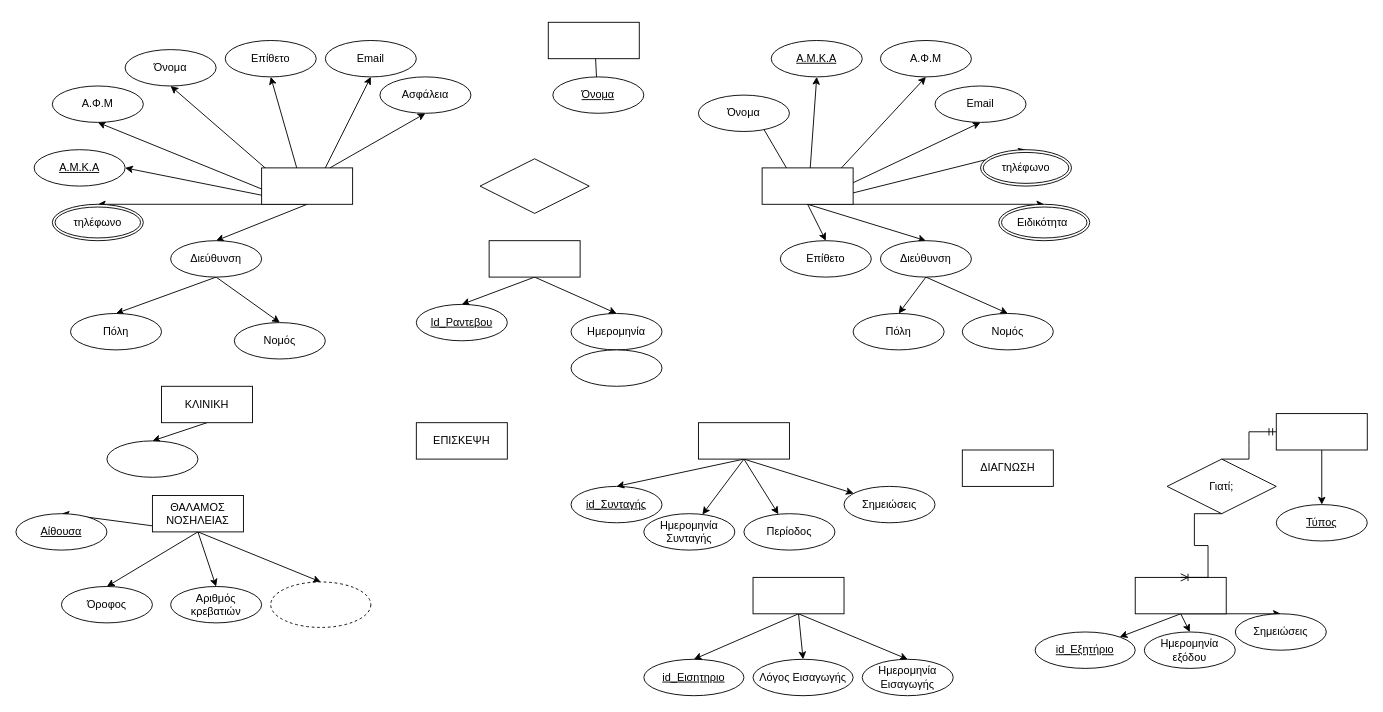
Image size: 1383x712. Some labels were removed from this diagram. The centre of each missing label's shape, as x and y in pixels:
"Attribute" belongs at point (616, 367).
"Έχει" belongs at point (534, 185).
"ΑΣΘΕΝΗΣ" belongs at point (307, 185).
"Διαθέσιμα Κρεβάτια" belongs at point (320, 604).
"ΕΙΣΗΤΗΡΙΟ" belongs at point (798, 595).
"ΕΞΙΤΗΡΙΟ" belongs at point (1180, 595).
"ΘΑΛΑΜΟΣ ΕΞΕΤΑΣΗΣ" belongs at point (593, 40).
"ΙΑΤΡΟΣ" belongs at point (807, 185).
"ΡΑΝΤΕΒΟΥ" belongs at point (534, 258).
"ΤΥΠΟΣ ΕΞΟΔΟΥ" belongs at point (1321, 431).
"ΦΑΡΜΑΚΕΥΤΙΚΗ ΑΓΩΓΗ" belongs at point (743, 440).
"Όνομα κλινικής" belongs at point (152, 458).
